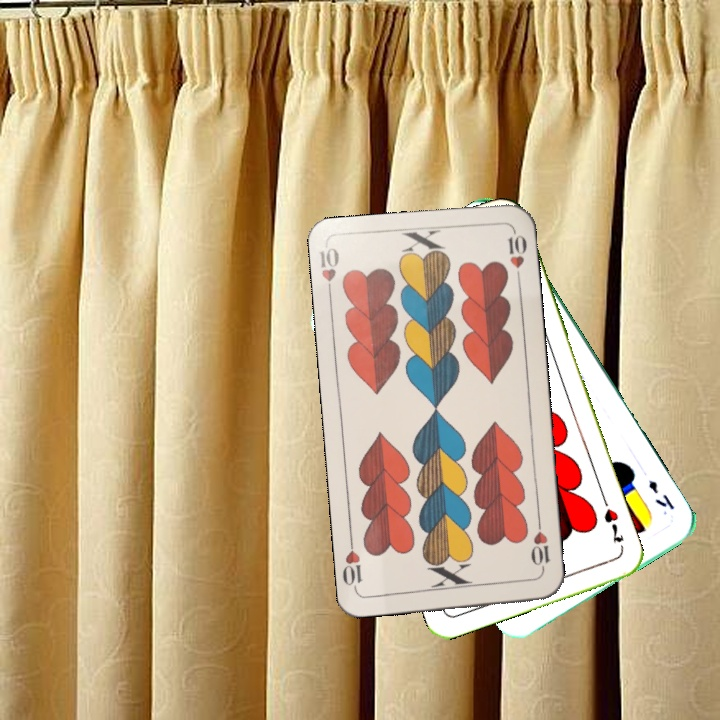EK: (644, 476, 678, 512)
H10: (527, 517, 553, 576), (316, 243, 342, 302)
H7: (600, 504, 626, 546)
